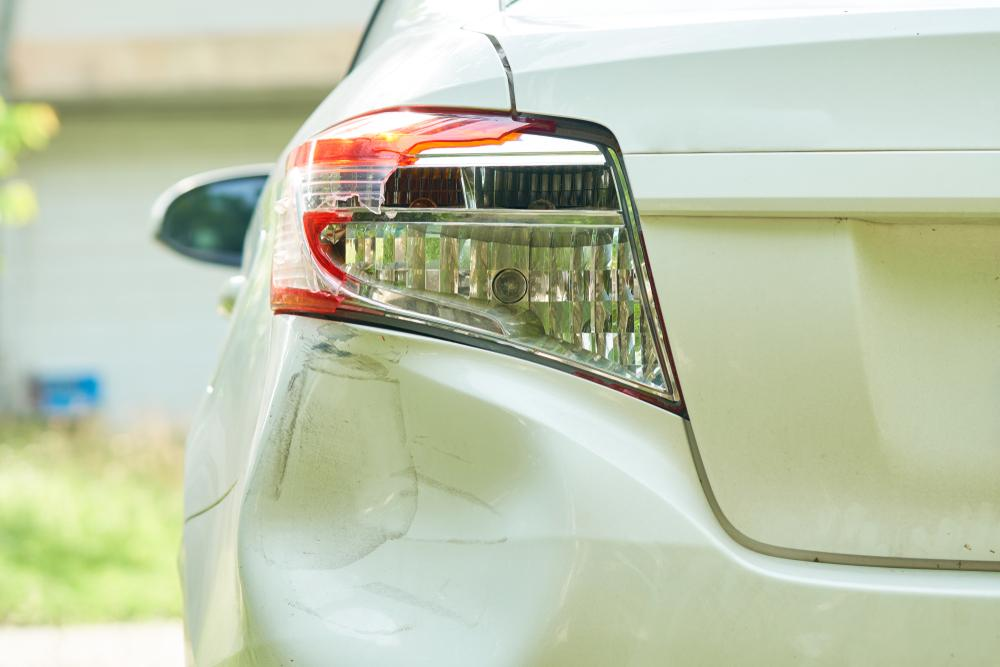dent: (240, 331, 573, 667)
lamp broken: (270, 108, 691, 421)
